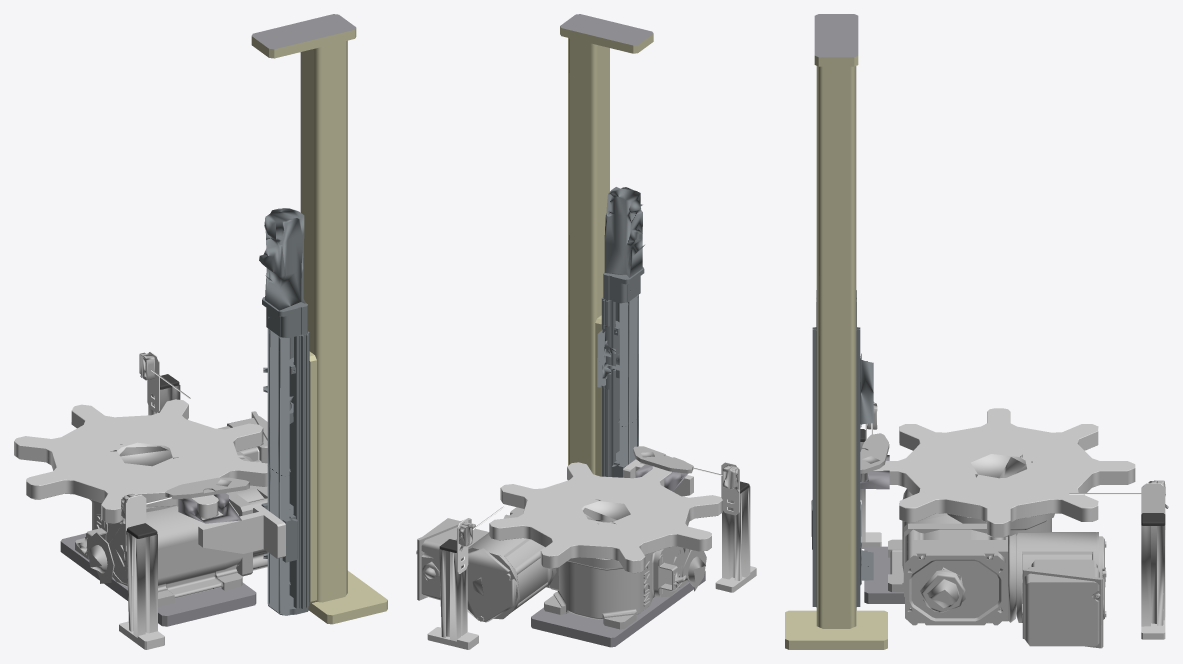
File: flange-index-feeder.glb
3 views of the same model, side by side, from view 1: azimuth 30°, elevation 25°; view 2: azimuth 150°, elevation 25°; view 3: azimuth 270°, elevation 25° (orthographic). The views are drawn at different scales.
Visible parts, largest first — view 1: part2, part0, part8, part7, part1, part3, part5, part4, part6; view 2: part0, part2, part7, part8, part1, part3, part5, part4; view 3: part2, part7, part0, part8, part1, part3, part5, part4.
Part boxes in pixels (x1=…): part2: x1=251, y1=28, x2=387, y2=624; part0: x1=14, y1=399, x2=285, y2=649; part8: x1=259, y1=208, x2=309, y2=615; part7: x1=75, y1=411, x2=267, y2=606; part1: x1=60, y1=14, x2=356, y2=626; part3: x1=126, y1=385, x2=180, y2=637; part5: x1=120, y1=352, x2=249, y2=524; part4: x1=125, y1=351, x2=190, y2=551; part6: x1=127, y1=374, x2=179, y2=538; part0: x1=427, y1=459, x2=756, y2=649; part2: x1=560, y1=26, x2=653, y2=476; part7: x1=416, y1=507, x2=706, y2=629; part8: x1=597, y1=187, x2=644, y2=477; part1: x1=531, y1=14, x2=705, y2=647; part3: x1=439, y1=486, x2=750, y2=641; part5: x1=458, y1=446, x2=739, y2=551; part4: x1=457, y1=462, x2=739, y2=573; part2: x1=785, y1=56, x2=887, y2=649; part7: x1=888, y1=489, x2=1106, y2=648; part0: x1=811, y1=408, x2=1165, y2=639; part8: x1=812, y1=290, x2=873, y2=610; part1: x1=814, y1=14, x2=1022, y2=603; part3: x1=860, y1=442, x2=1165, y2=626; part5: x1=860, y1=402, x2=1168, y2=508; part4: x1=865, y1=423, x2=1165, y2=514.
Size of the model in its own units: 0.4148 by 0.814 by 0.4846.
